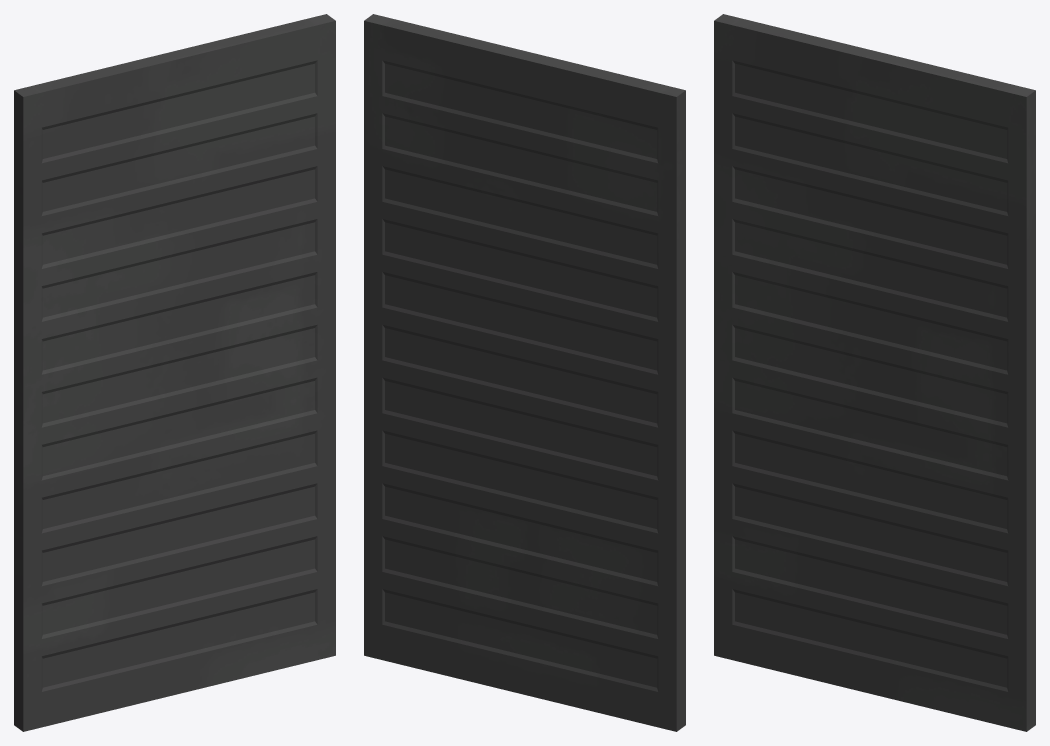
Rendered from EN_W_Door_lvl1.fbx.
The picture shows the model from 3 angles, left to right: view 1: azimuth 30°, elevation 25°; view 2: azimuth 150°, elevation 25°; view 3: azimuth 330°, elevation 25°; orthographic projection.
Parts seen in each view (by area): view 1: polySurface42; view 2: polySurface42; view 3: polySurface42.
Boxes of the visible parts, left/top/right/bottom form: polySurface42: left=14, top=14, right=335, bottom=731; polySurface42: left=364, top=14, right=685, bottom=731; polySurface42: left=714, top=14, right=1035, bottom=731.
Bounding box in the file's own units: 134 × 260 × 6.86.
